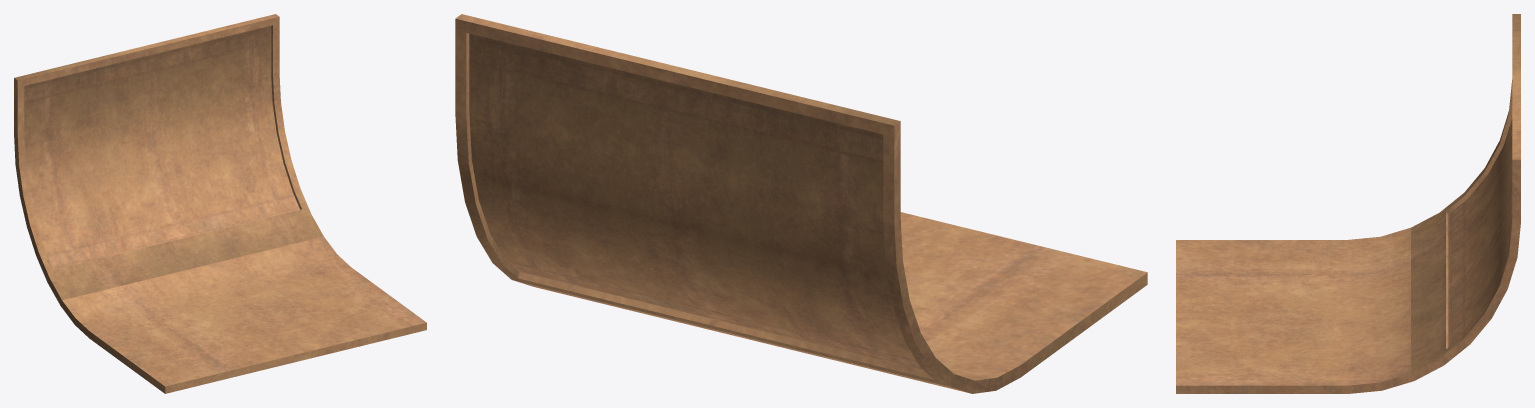
The model's file is Big_Wall_A.fbx.
3 views of the same model, side by side, from view 1: azimuth 30°, elevation 25°; view 2: azimuth 150°, elevation 25°; view 3: azimuth 270°, elevation 25° (orthographic). The views are drawn at different scales.
Parts seen in each view (by area): view 1: Big_Wall_A; view 2: Big_Wall_A; view 3: Big_Wall_A.
Boxes of the visible parts, bbox=[...] form: Big_Wall_A: bbox=[14, 14, 426, 393]; Big_Wall_A: bbox=[455, 14, 1147, 393]; Big_Wall_A: bbox=[1176, 14, 1520, 393].
Size of the model in its own units: 4 by 3 by 4.
